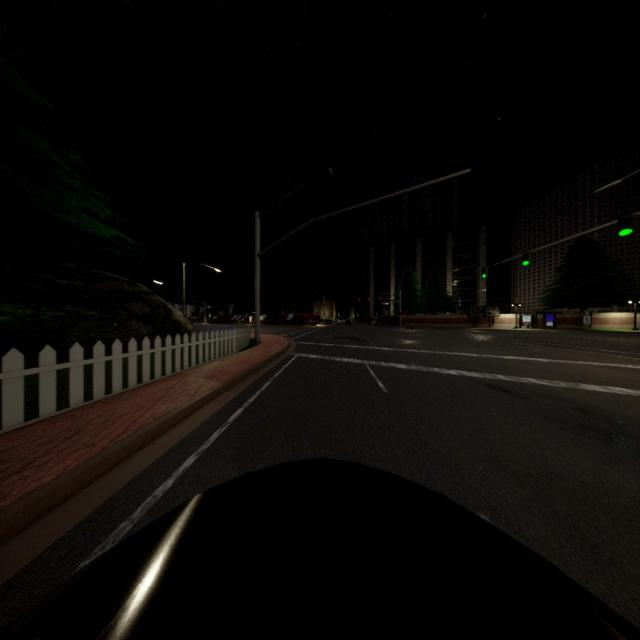Vehicle: (0, 458, 640, 640)
traffic_light: (618, 215, 633, 238), (522, 252, 529, 267), (482, 268, 486, 278), (399, 309, 402, 315), (358, 298, 360, 302), (379, 298, 381, 300), (368, 298, 369, 300)
